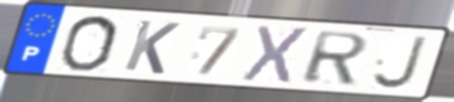7: (193, 25, 242, 76)
J: (369, 34, 430, 91)
K: (120, 18, 183, 77)
O: (56, 14, 121, 73)
R: (299, 29, 372, 86)
X: (238, 24, 313, 87)
